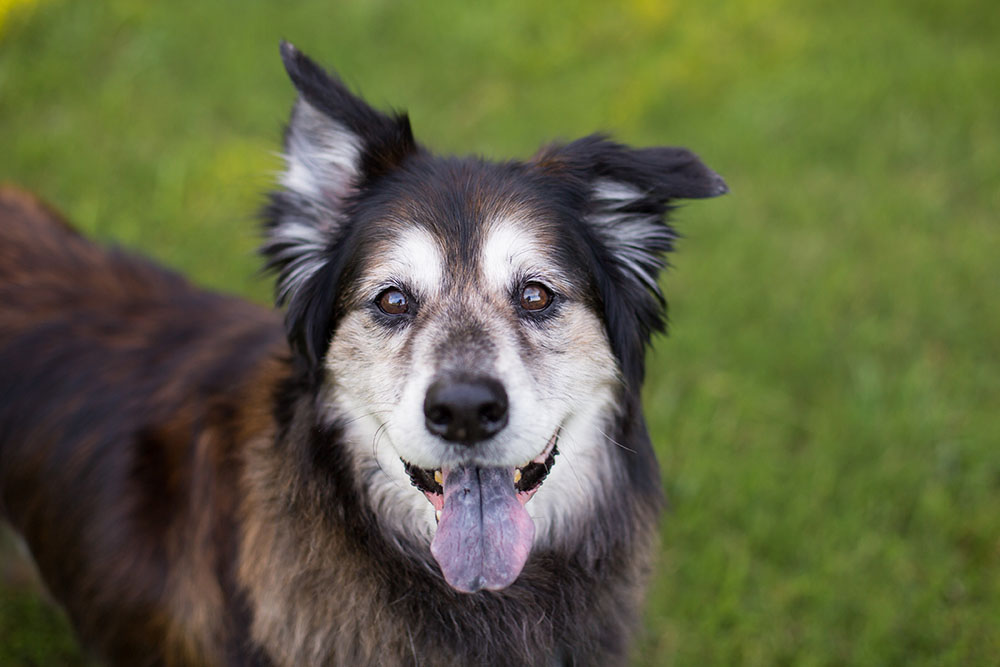Dog: (8, 33, 747, 657)
